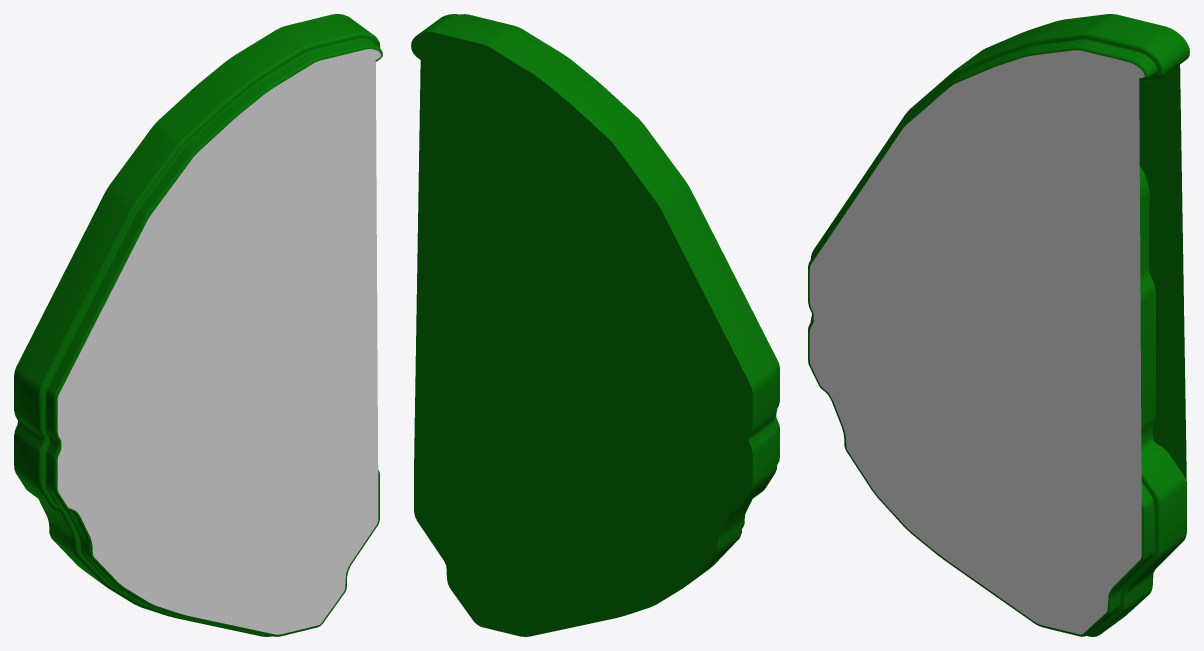
3 views of the same model, side by side, from view 1: azimuth 30°, elevation 25°; view 2: azimuth 150°, elevation 25°; view 3: azimuth 330°, elevation 25° (orthographic). The views are drawn at different scales.
Visible parts, largest first — view 1: Letter_U.001; view 2: Letter_U.001; view 3: Letter_U.001.
Boxes of the visible parts, <box> form: Letter_U.001: <box>14,14,382,636</box>; Letter_U.001: <box>411,14,779,636</box>; Letter_U.001: <box>808,14,1189,636</box>.
Bounding box in the file's own units: 114 × 186 × 20.
